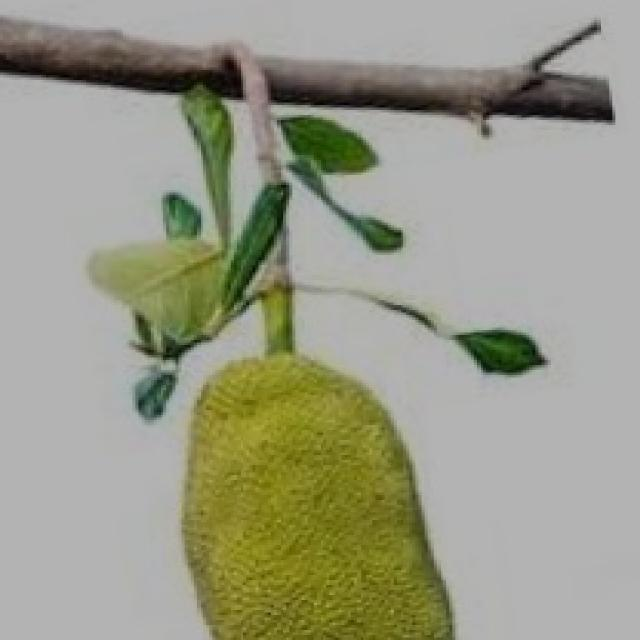Fruit: (157, 335, 477, 640)
